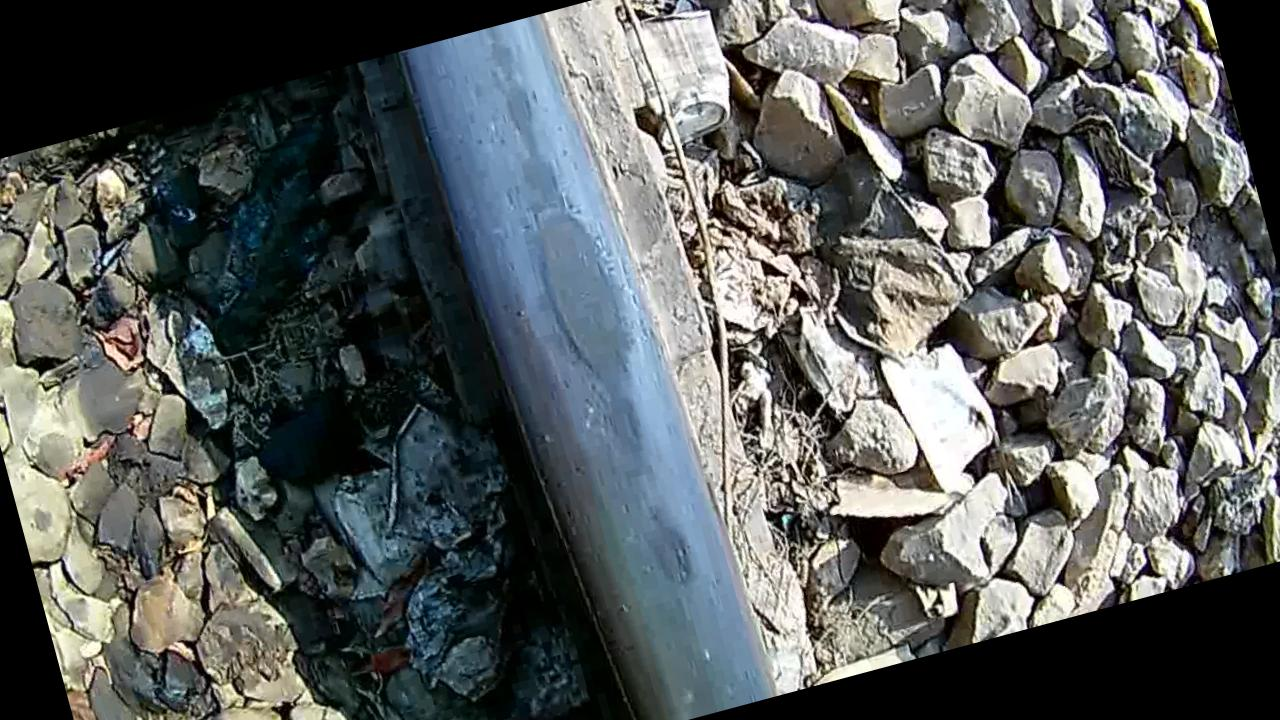bolt_missing: (410, 5, 758, 695)
